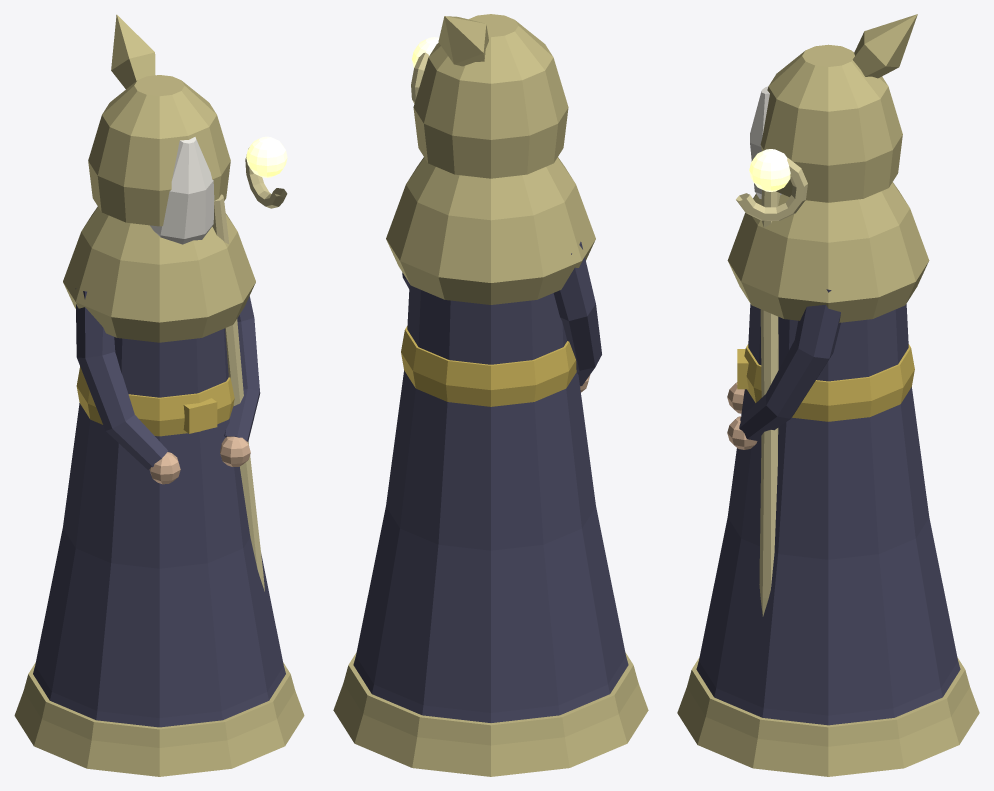
File: elder_outpost_b.glb
The picture shows the model from 3 angles, left to right: view 1: azimuth 30°, elevation 25°; view 2: azimuth 150°, elevation 25°; view 3: azimuth 270°, elevation 25°; orthographic projection. The views are drawn at different scales.
Parts seen in each view (by area): view 1: Elder_Robe.002, Elder_Mantle.002, Elder_Hem.002, Elder_Hood.002, Elder_Arm0.002, Elder_Beard.002, Elder_Belt.002, Elder_Staff.002, Elder_Arm1.002, Elder_HoodTip.002, Elder_Orb.002, Elder_Buckle.002 (+3 smaller); view 2: Elder_Robe.002, Elder_Mantle.002, Elder_Hood.002, Elder_Hem.002, Elder_Belt.002, Elder_Arm0.002, Elder_HoodTip.002; view 3: Elder_Robe.002, Elder_Mantle.002, Elder_Hood.002, Elder_Hem.002, Elder_Arm1.002, Elder_Belt.002, Elder_Staff.002, Elder_HoodTip.002, Elder_Crook.002, Elder_Orb.002, Elder_Beard.002.
Part boxes in pixels (box(x1,y1,x2,y2)): Elder_Robe.002: box(33, 328, 285, 727); Elder_Mantle.002: box(63, 206, 255, 342); Elder_Hem.002: box(14, 662, 304, 776); Elder_Hood.002: box(88, 75, 230, 226); Elder_Arm0.002: box(75, 288, 167, 469); Elder_Beard.002: box(150, 137, 214, 244); Elder_Belt.002: box(76, 366, 234, 436); Elder_Staff.002: box(212, 194, 264, 591); Elder_Arm1.002: box(224, 296, 260, 442); Elder_HoodTip.002: box(111, 14, 155, 88); Elder_Orb.002: box(246, 136, 287, 177); Elder_Buckle.002: box(183, 398, 217, 433); Elder_Robe.002: box(353, 284, 628, 722); Elder_Mantle.002: box(386, 157, 595, 304); Elder_Hood.002: box(413, 14, 568, 178); Elder_Hem.002: box(333, 652, 648, 776); Elder_Belt.002: box(401, 326, 576, 406); Elder_Arm0.002: box(553, 241, 601, 386); Elder_HoodTip.002: box(438, 16, 488, 66); Elder_Robe.002: box(696, 304, 960, 725); Elder_Mantle.002: box(727, 182, 929, 322); Elder_Hood.002: box(760, 44, 902, 202); Elder_Hem.002: box(677, 657, 979, 776); Elder_Arm1.002: box(739, 289, 840, 441); Elder_Belt.002: box(744, 344, 914, 421); Elder_Staff.002: box(759, 189, 779, 616); Elder_HoodTip.002: box(852, 14, 917, 78); Elder_Crook.002: box(736, 157, 807, 220); Elder_Orb.002: box(749, 149, 790, 191); Elder_Beard.002: box(750, 86, 781, 198).
Size of the model in its own units: 0.63 by 1.61 by 0.63.
